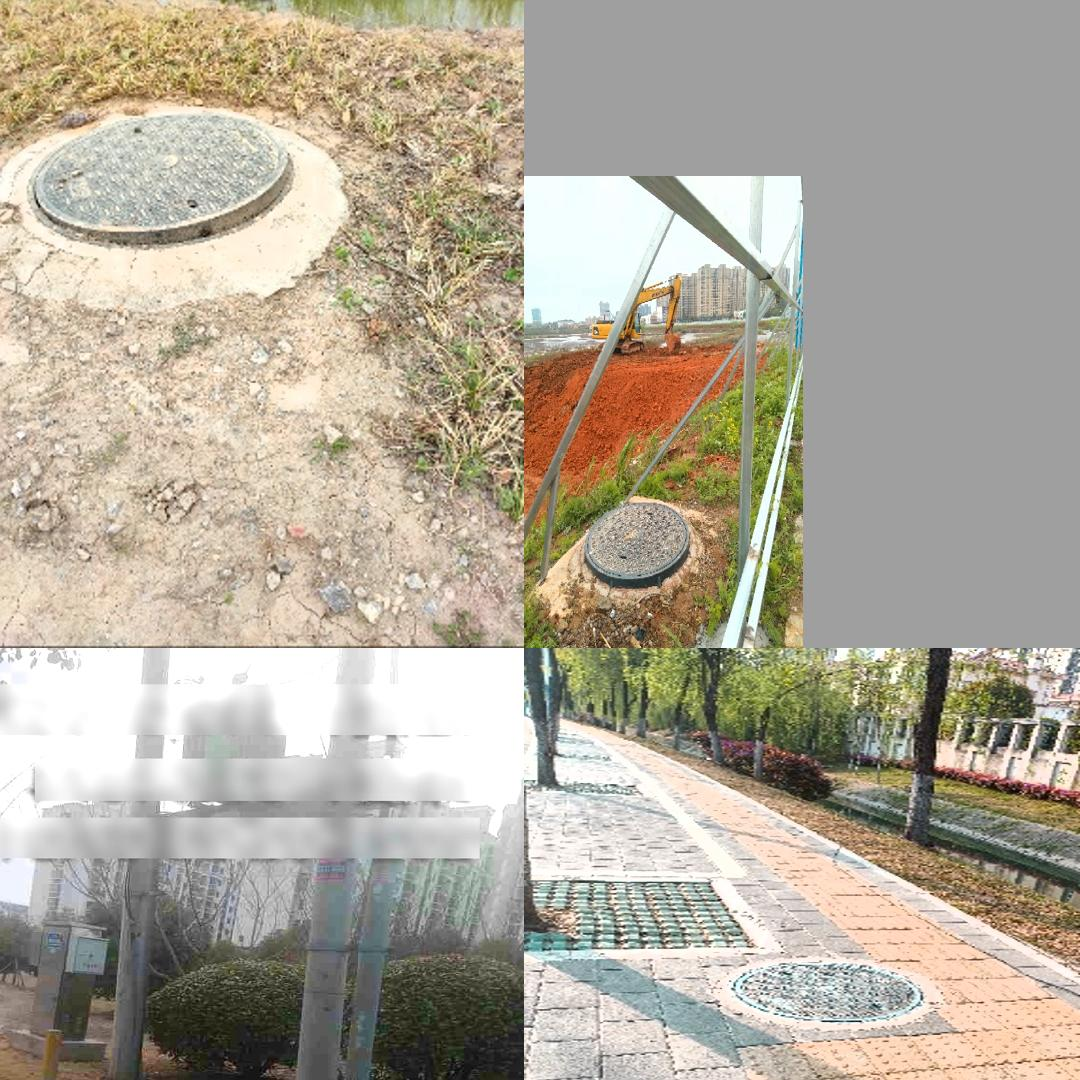good: (23, 114, 291, 246), (731, 961, 925, 1023), (585, 501, 690, 585)
